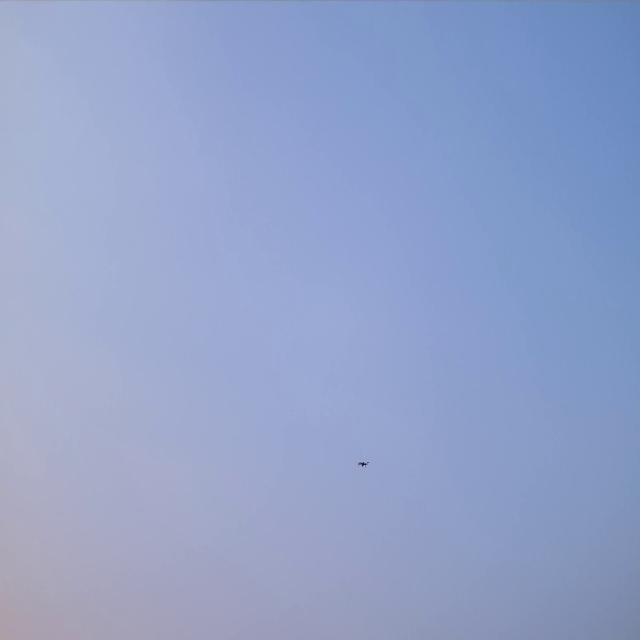UAV: (355, 459, 371, 470)
